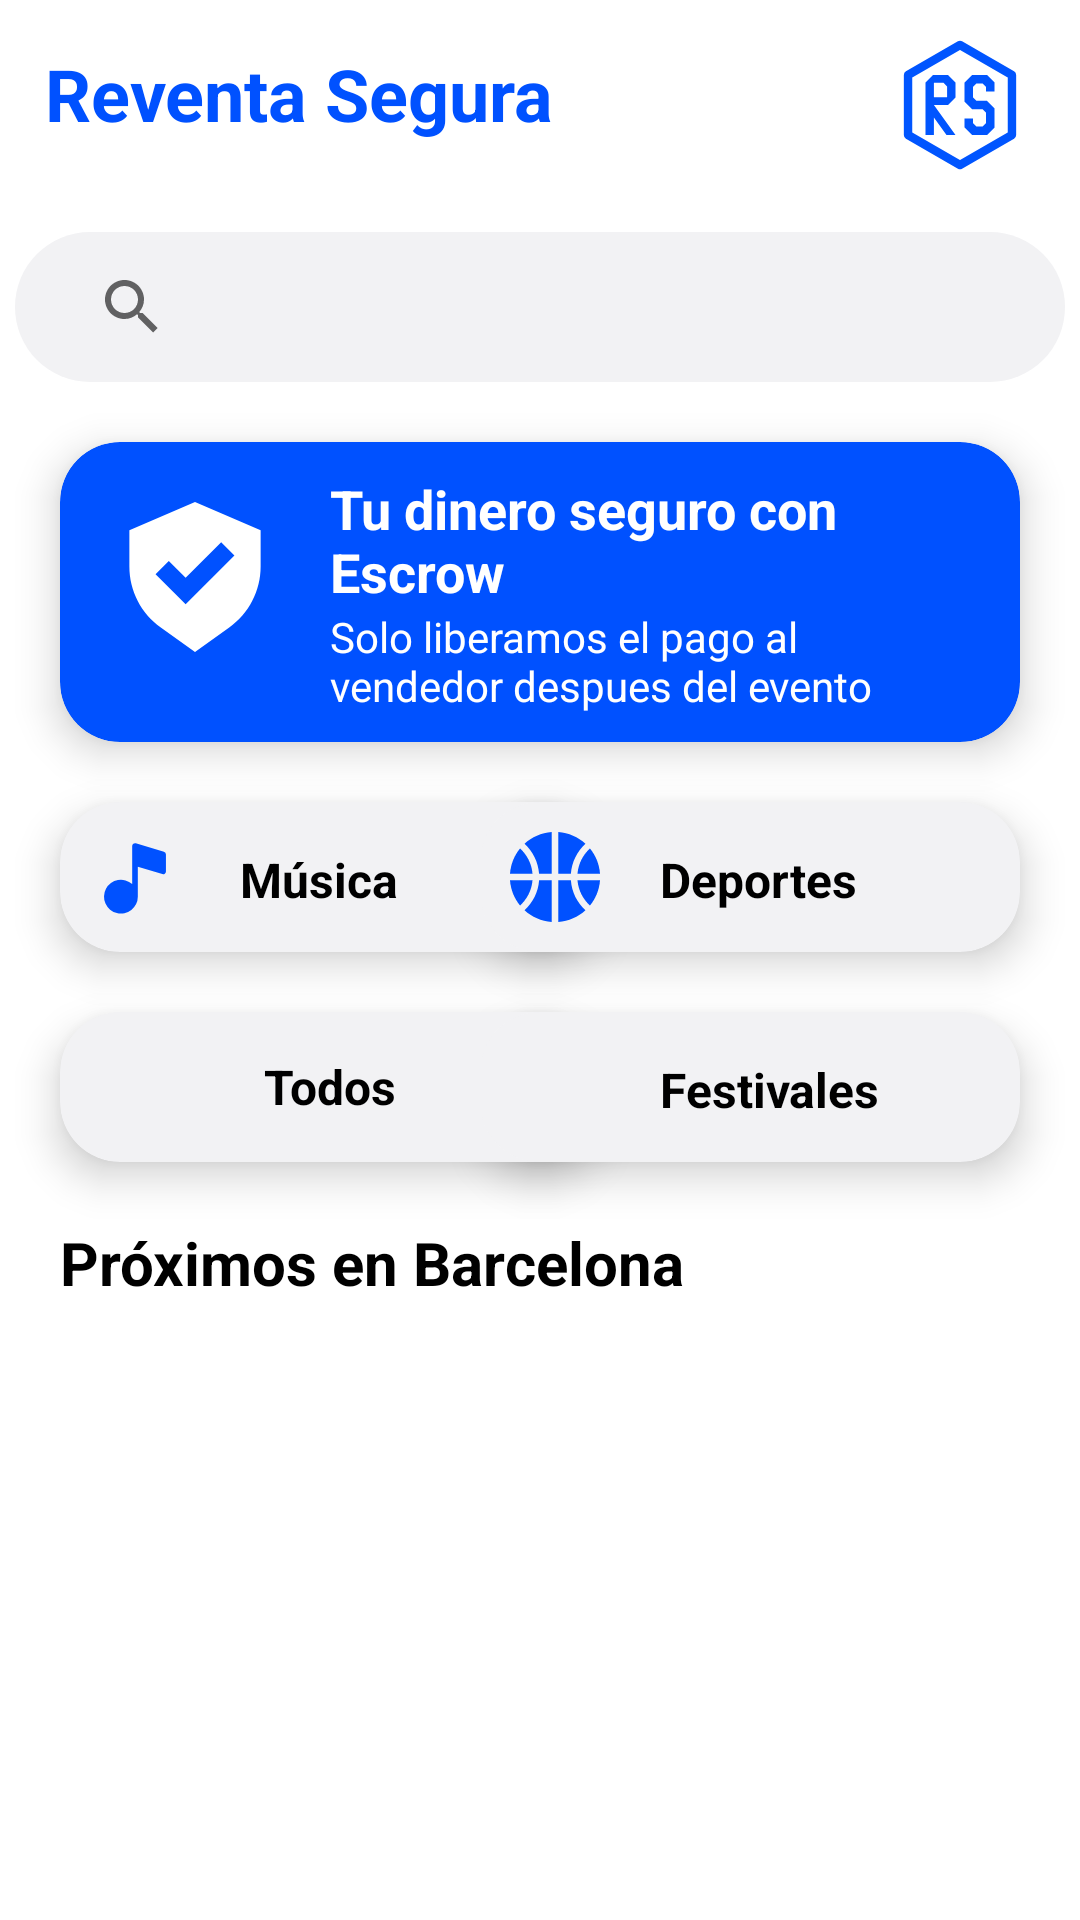

Named icons in this screenshot (1080px×1920px) and their bounding boxes, {"x1": x1, "y1": y1, "x2": x2, "y2": y2}:
basketball: {"x1": 510, "y1": 832, "x2": 600, "y2": 922}
music note: {"x1": 104, "y1": 843, "x2": 166, "y2": 914}
shield check: {"x1": 129, "y1": 502, "x2": 261, "y2": 652}
